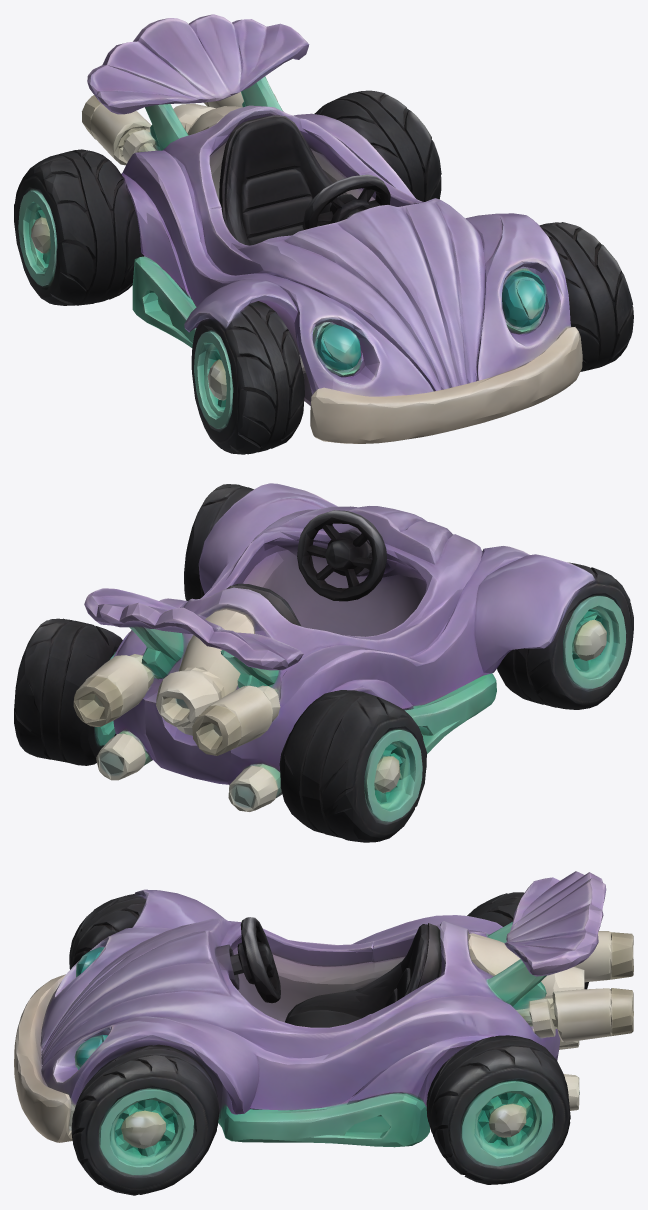
The model's file is shell-axolotl-kart-raw.glb.
3 views of the same model, one above another, from view 1: azimuth 30°, elevation 25°; view 2: azimuth 150°, elevation 25°; view 3: azimuth 270°, elevation 25° (orthographic). The views are drawn at different scales.
Parts seen in each view (by area): view 1: model; view 2: model; view 3: model.
Part boxes in pixels (x1=…): model: x1=14, y1=14, x2=633, y2=454; model: x1=14, y1=483, x2=633, y2=842; model: x1=14, y1=871, x2=633, y2=1195.
Size of the model in its own units: 1.38 by 0.7468 by 1.89.
1 material, 1 textured.
